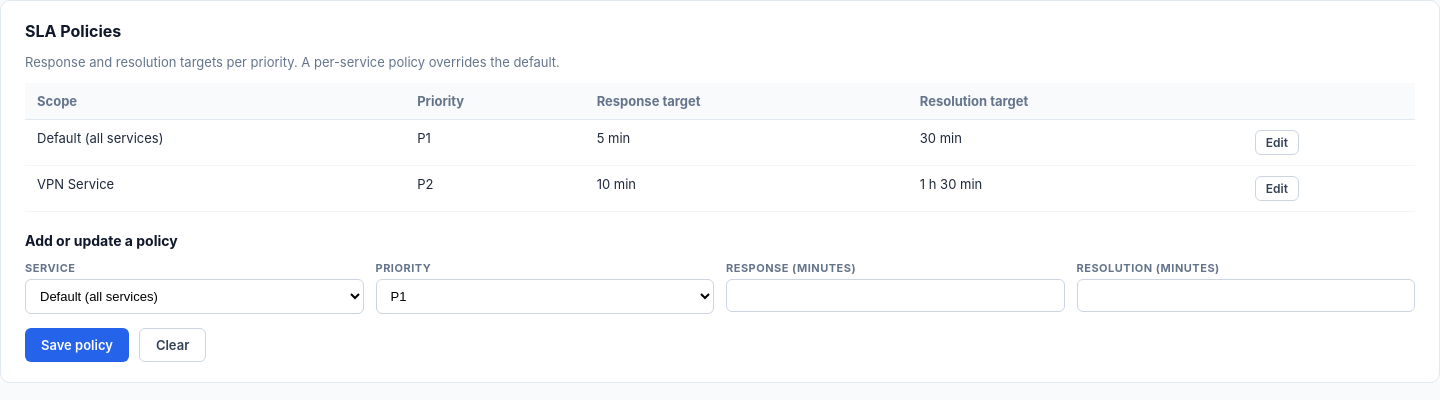
Scenario: SlaPoliciesPanel › Edit prefills the form from the policy
The width and height of the screenshot is (1440, 400).
Click the button with aria-label "Edit P2 policy for VPN Service": (1277, 188) x1=1255 y1=176 x2=1299 y2=201
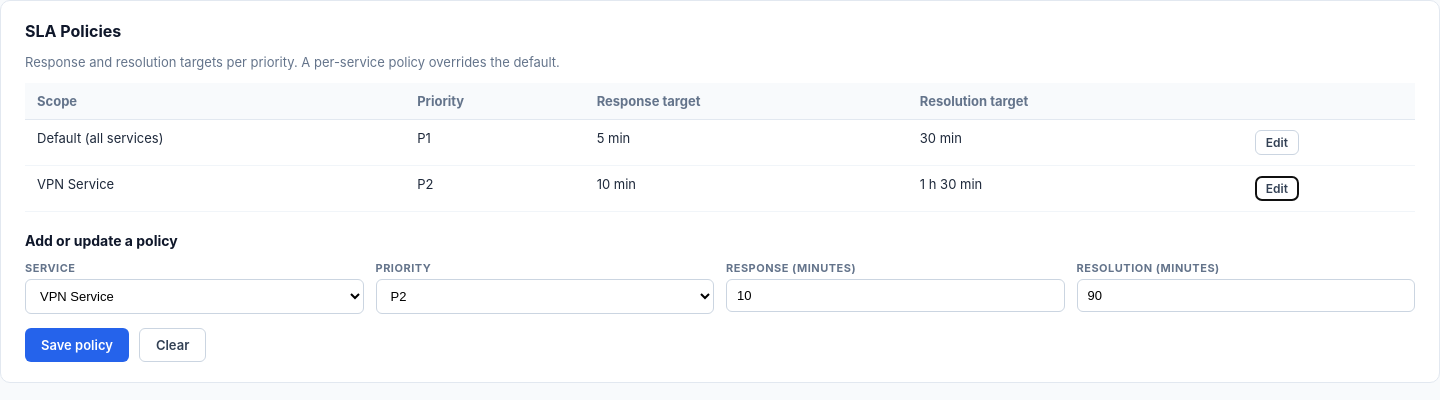
expect the dropdown labelled "Service" shows "VPN Service": met, box x1=25 y1=279 x2=364 y2=314
expect the number field labelled "Response (minutes)" holds "10": met, box x1=726 y1=279 x2=1064 y2=312
expect the number field labelled "Resolution (minutes)" holds "90": met, box x1=1076 y1=279 x2=1415 y2=312
